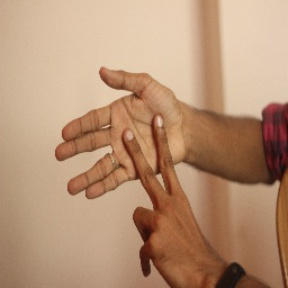N: (51, 62, 202, 245)
